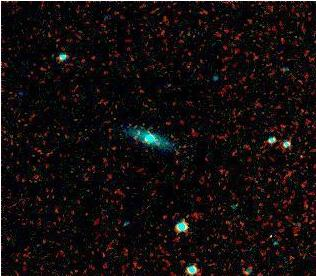star: (123, 117, 153, 147)
